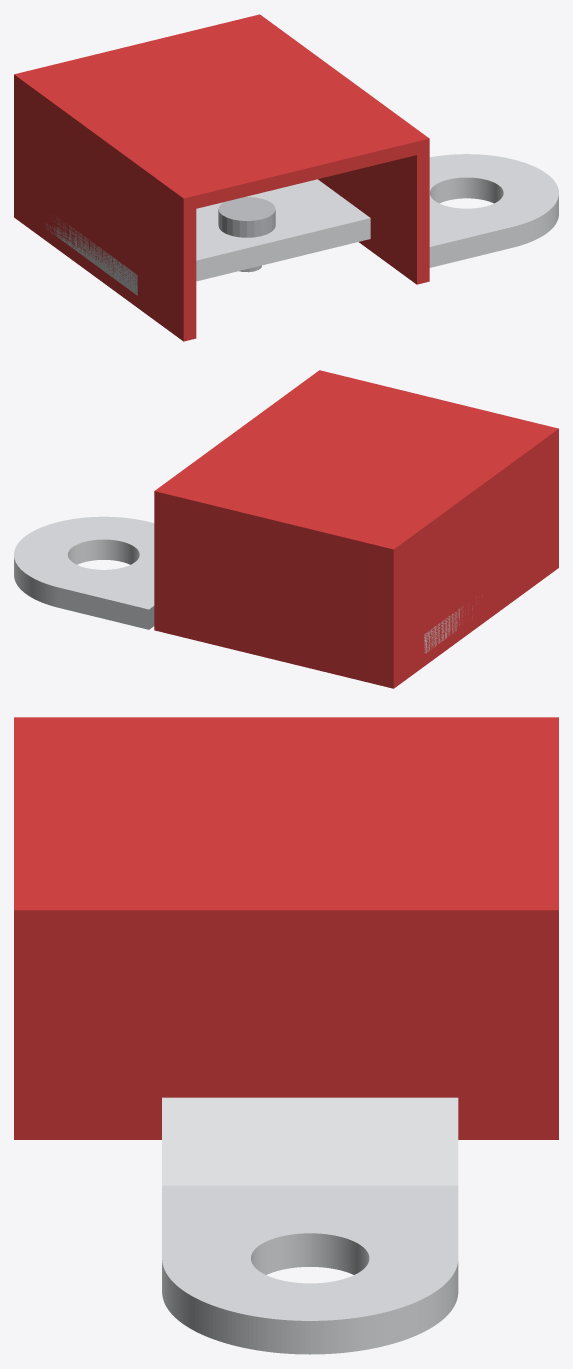
The model's file is blueseas-2340-pos.glb.
3 views of the same model, one above another, from view 1: azimuth 30°, elevation 25°; view 2: azimuth 150°, elevation 25°; view 3: azimuth 270°, elevation 25° (orthographic). The views are drawn at different scales.
Parts seen in each view (by area): view 1: cover, bus, tab, screws; view 2: cover, tab, bus; view 3: cover, tab, bus.
Boxes of the visible parts, box(x1,y1,x2,y2) form: cover: box(14, 14, 429, 341); bus: box(45, 179, 456, 295); tab: box(429, 154, 558, 261); screws: box(218, 197, 275, 272); cover: box(154, 370, 558, 688); tab: box(14, 516, 154, 620); bus: box(113, 571, 472, 653); cover: box(14, 717, 558, 1139); tab: box(162, 1196, 458, 1354); bus: box(162, 1097, 458, 1214).
Size of the model in its own units: 0.0724 by 0.0265 by 0.0467.
